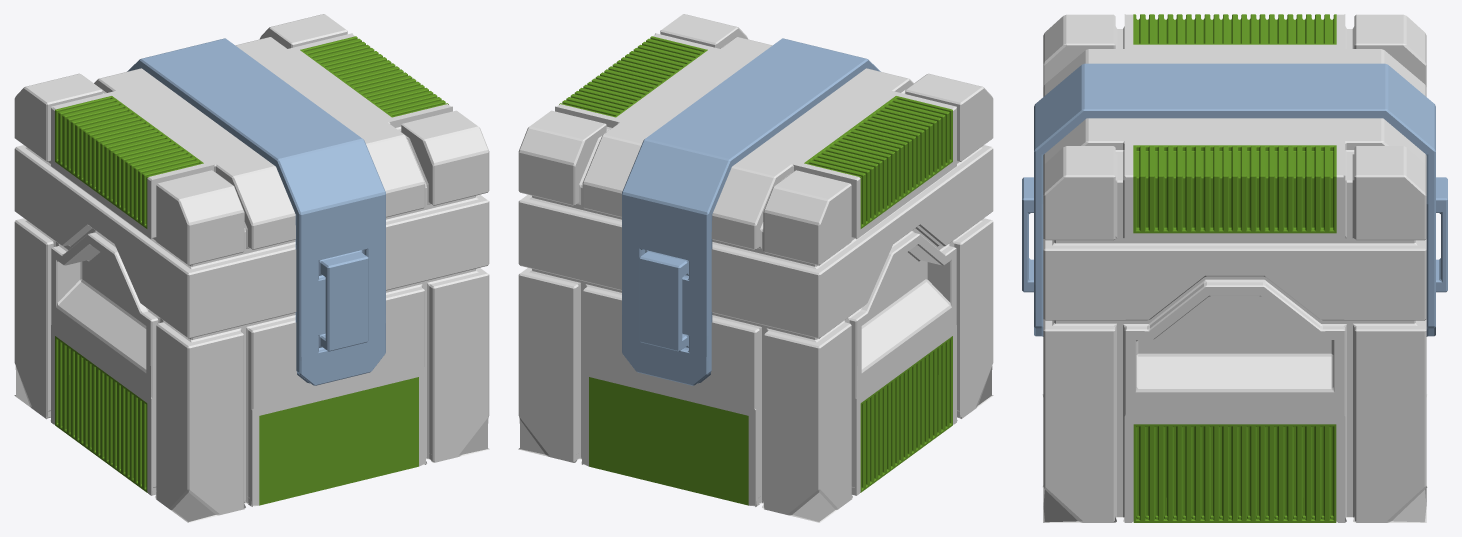
Rendered from scifi_crate.glb.
The picture shows the model from 3 angles, left to right: view 1: azimuth 30°, elevation 25°; view 2: azimuth 150°, elevation 25°; view 3: azimuth 270°, elevation 25°; orthographic projection. The views are drawn at different scales.
Visible parts, largest first — view 1: Crate, Crate Bumpers, Create Latch; view 2: Crate, Crate Bumpers, Create Latch; view 3: Crate, Crate Bumpers, Create Latch.
Boxes of the visible parts, <box> form: Crate: <box>14,14,489,522</box>; Crate Bumpers: <box>55,36,448,505</box>; Create Latch: <box>127,38,385,385</box>; Crate: <box>518,14,993,522</box>; Crate Bumpers: <box>559,36,952,505</box>; Create Latch: <box>622,38,880,385</box>; Crate: <box>1042,14,1427,522</box>; Crate Bumpers: <box>1133,14,1336,522</box>; Create Latch: <box>1022,63,1447,336</box>.
Size of the model in its own units: 2 by 2.05 by 2.22.
